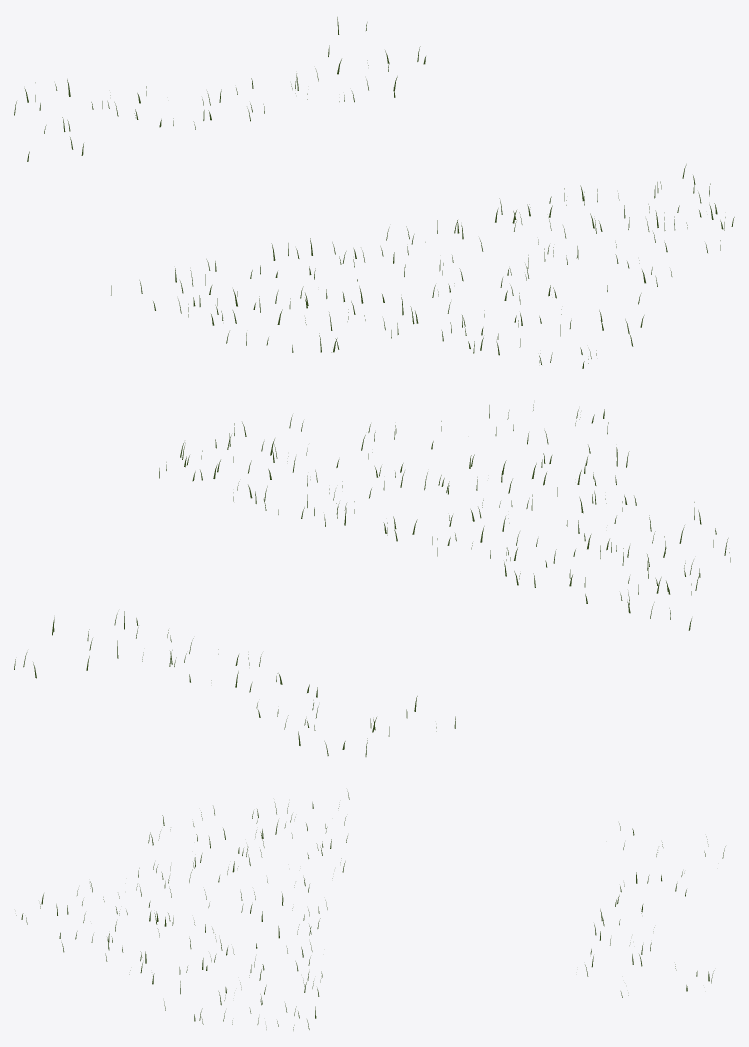
The picture shows the model from 3 angles, top to bottom: view 1: azimuth 30°, elevation 25°; view 2: azimuth 150°, elevation 25°; view 3: azimuth 270°, elevation 25°; orthographic projection. The views are drawn at different scales.
Visible parts, largest first — view 1: GrassPatch; view 2: GrassPatch; view 3: GrassPatch.
Part boxes in pixels (box(x1,y1,x2,y2)): GrassPatch: box(14, 17, 734, 368); GrassPatch: box(14, 404, 730, 756); GrassPatch: box(16, 791, 725, 1030).
Bounding box in the file's own units: 15.01 × 0.4918 × 19.58.
